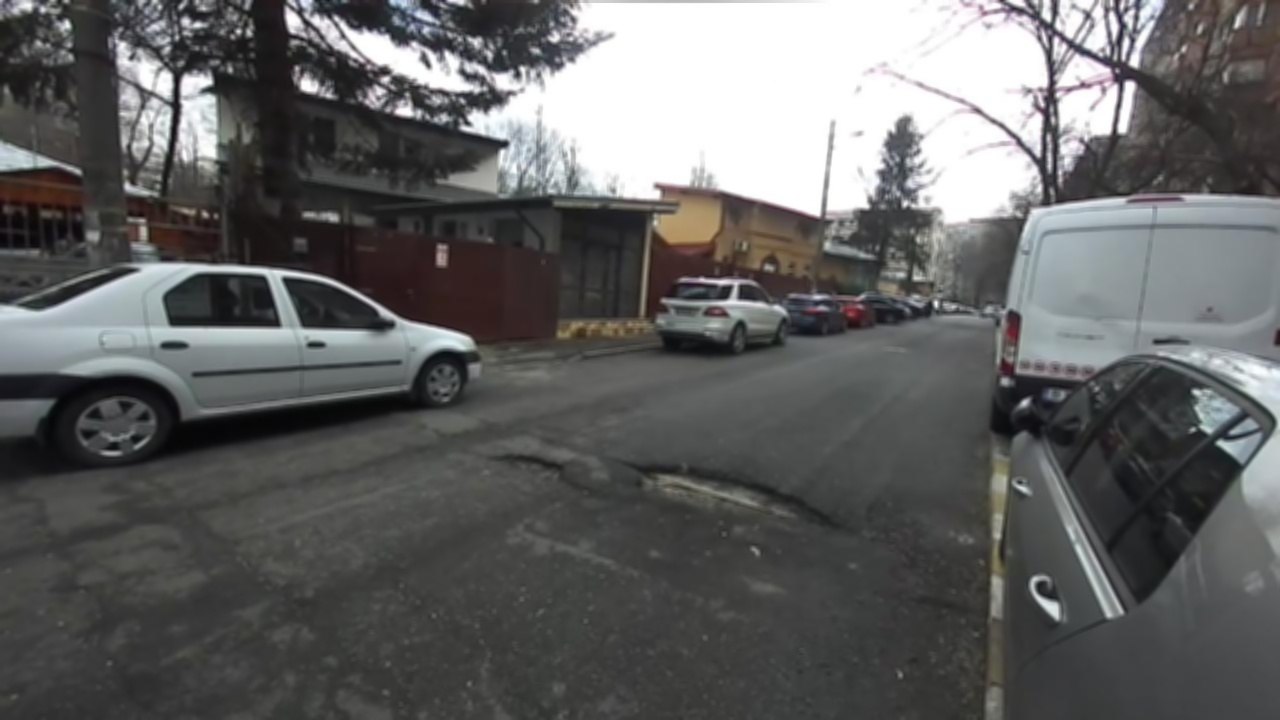pothole: (627, 459, 843, 532), (486, 450, 582, 492)
